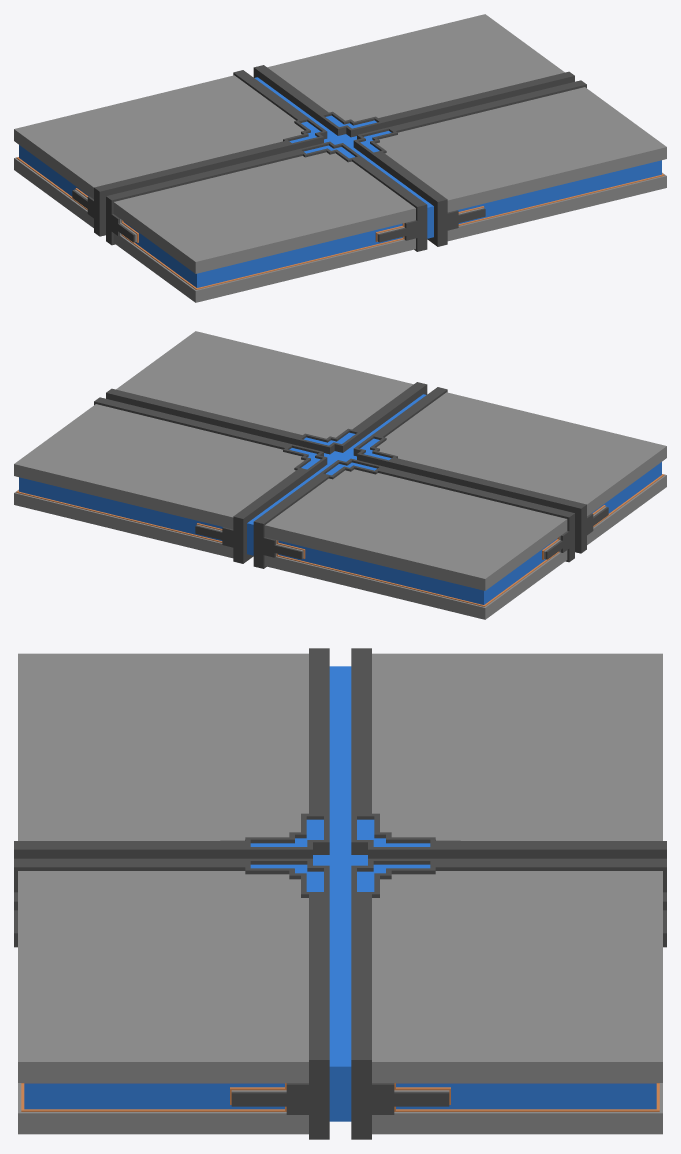
File: SM_FMovingPlatform_05.FBX
3 views of the same model, one above another, from view 1: azimuth 30°, elevation 25°; view 2: azimuth 150°, elevation 25°; view 3: azimuth 270°, elevation 25° (orthographic). The views are drawn at different scales.
Parts seen in each view (by area): view 1: SM_MovingPlatform_009; view 2: SM_MovingPlatform_009; view 3: SM_MovingPlatform_009.
Boxes of the visible parts, bbox=[...] form: SM_MovingPlatform_009: bbox=[14, 14, 666, 302]; SM_MovingPlatform_009: bbox=[14, 331, 666, 619]; SM_MovingPlatform_009: bbox=[14, 648, 666, 1139].
Bounding box in the file's own units: 607 × 54.87 × 407.
